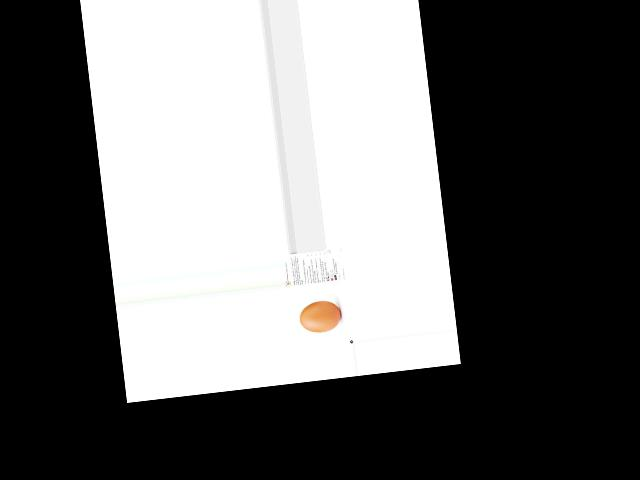egg: (298, 298, 342, 334)
